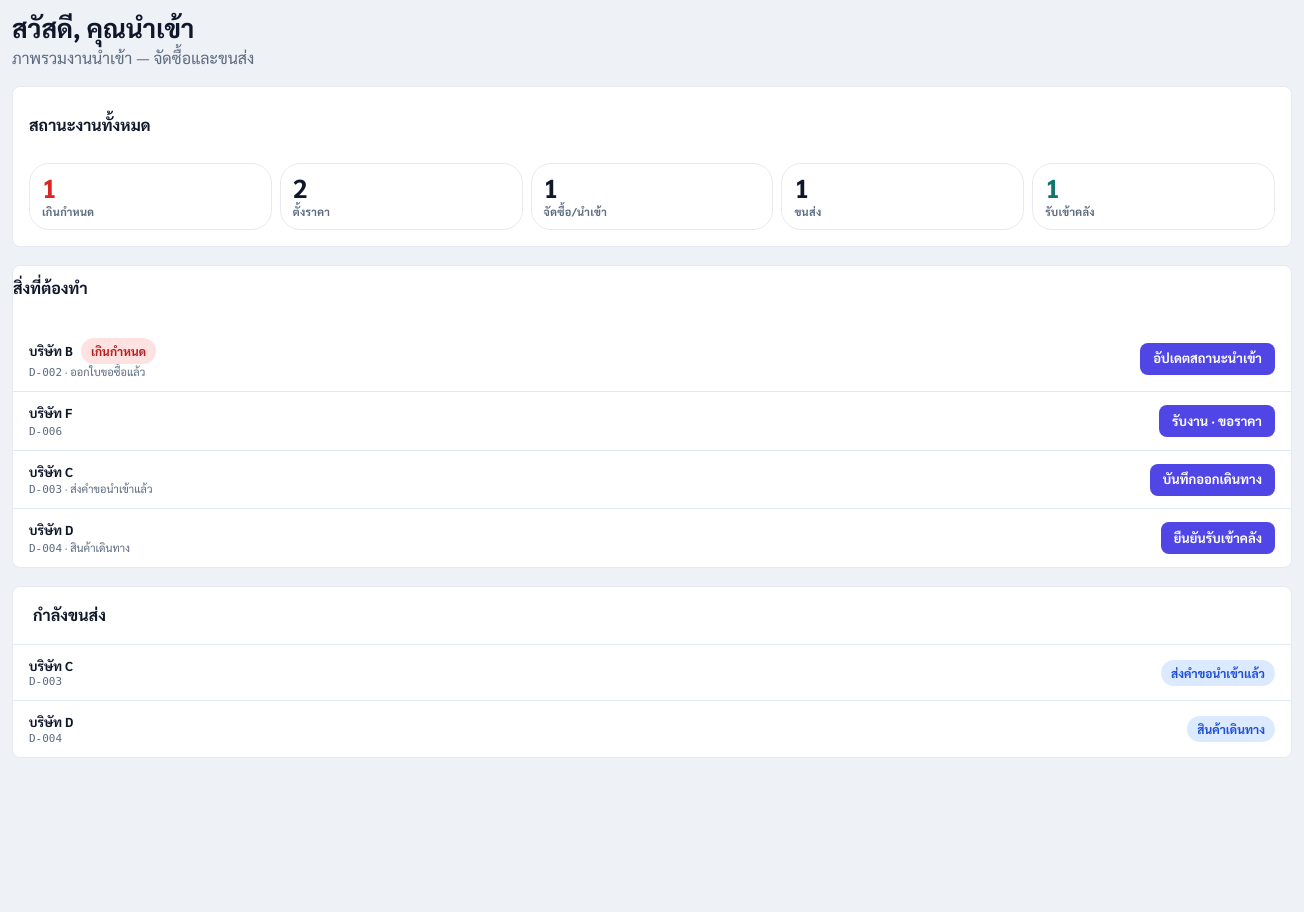
Scenario: ImportOverview › filters the worklist when a conveyor bucket is clicked, and clears on ล้างตัวกรอง
Check: the text "บริษัท B" is shown 4 times, box 29,342 -> 73,360; 29,404 -> 73,423; 29,463 -> 73,481; 29,521 -> 74,540
Click the button "1 รับเข้าคลัง" at (1154, 197), box 1032,163 -> 1275,230
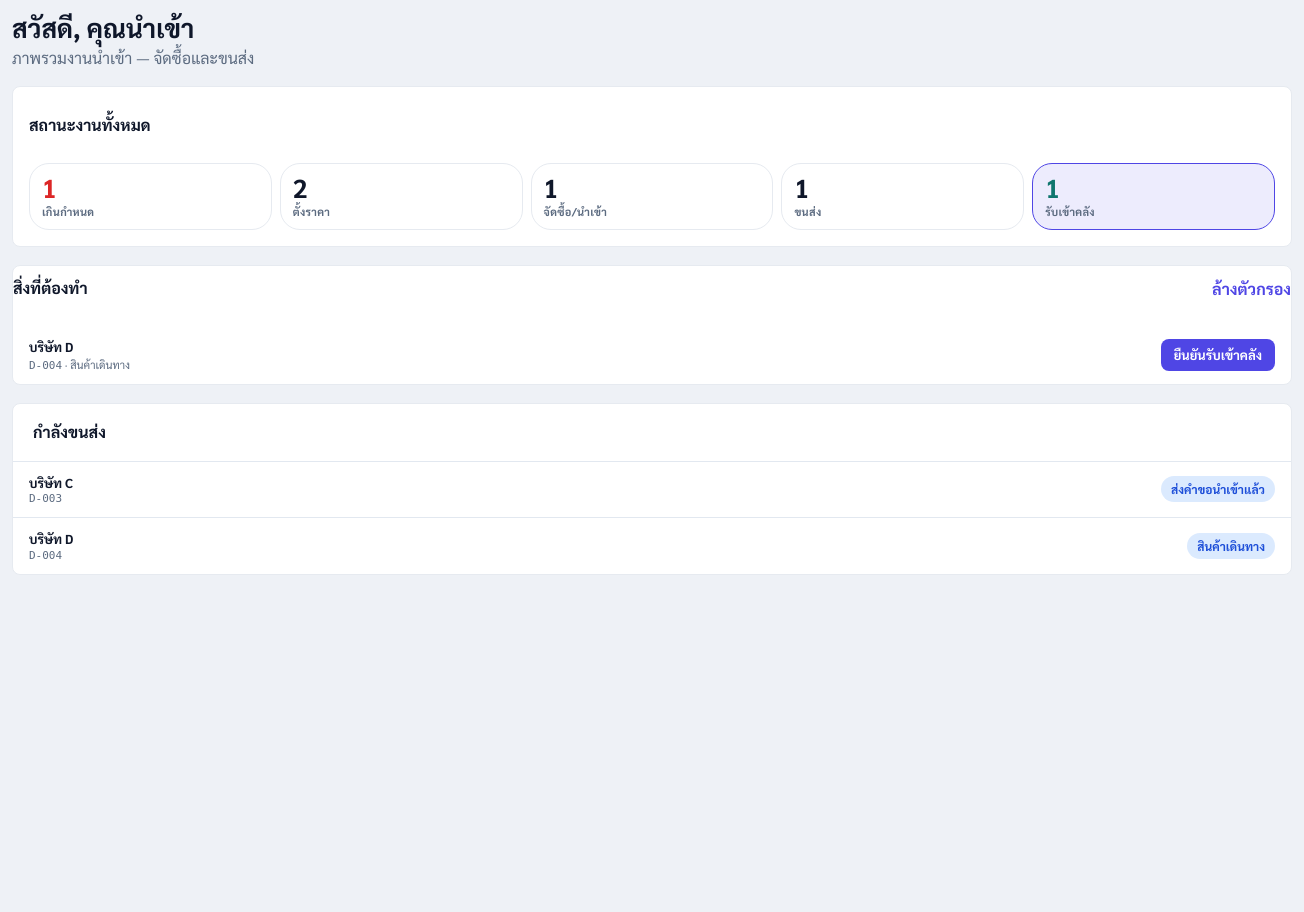
Check: the text "บริษัท D" below "สิ่งที่ต้องทำ" is shown, box 29,338 -> 74,355
Check: the text "บริษัท D" is shown once, box 29,338 -> 74,357
Click the button "ล้างตัวกรอง" at (1252, 288), box 1212,269 -> 1291,307
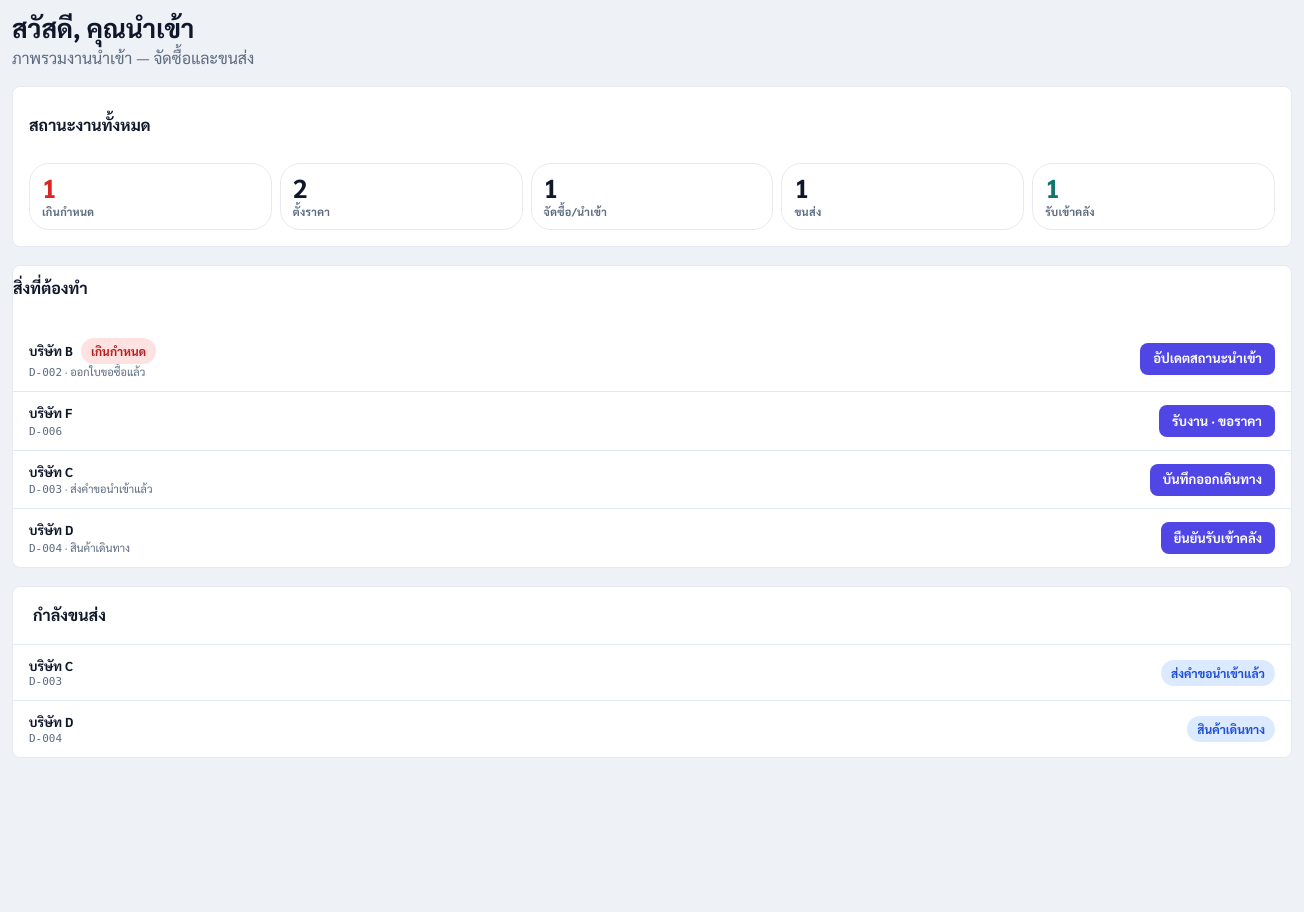
Check: the text "บริษัท B" is shown 4 times, box 29,342 -> 73,360; 29,404 -> 73,423; 29,463 -> 73,481; 29,521 -> 74,540
